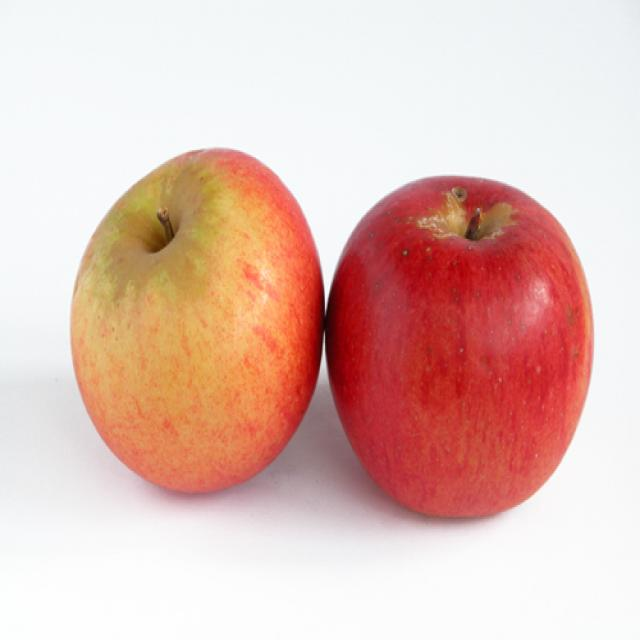Apple: (319, 168, 601, 527), (63, 145, 331, 499)
